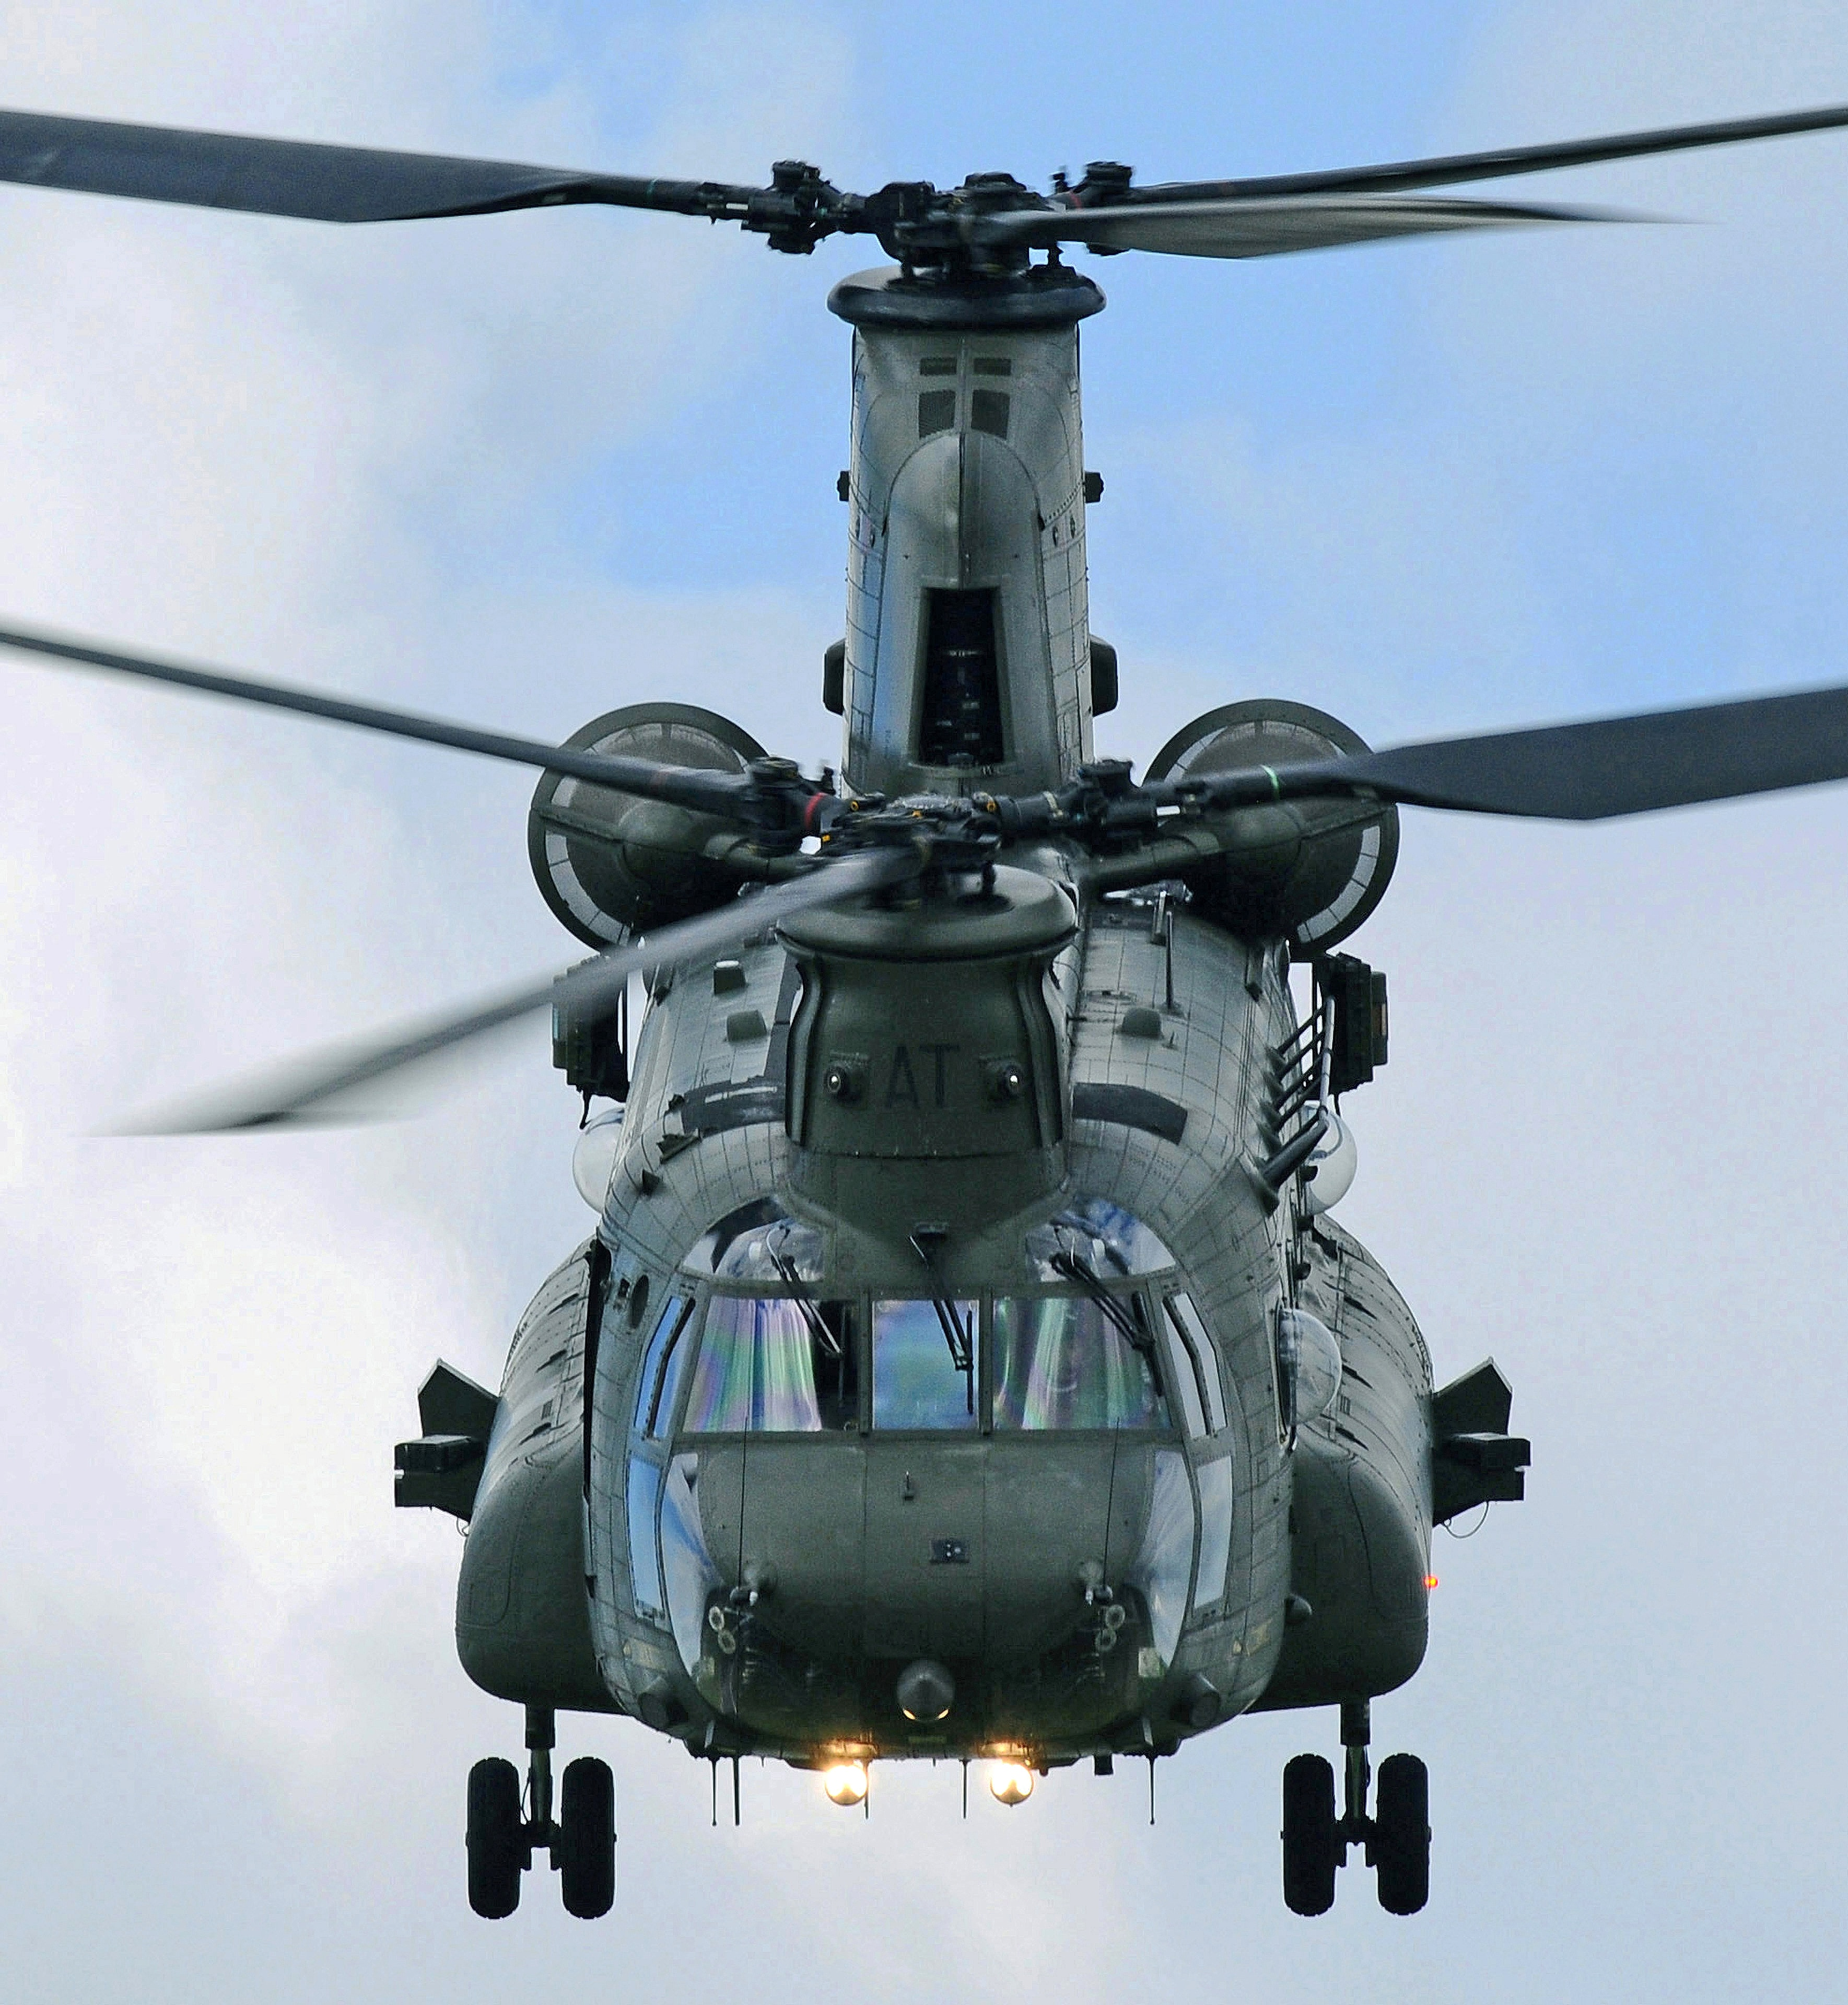helicopter: (28, 26, 1848, 1942)
